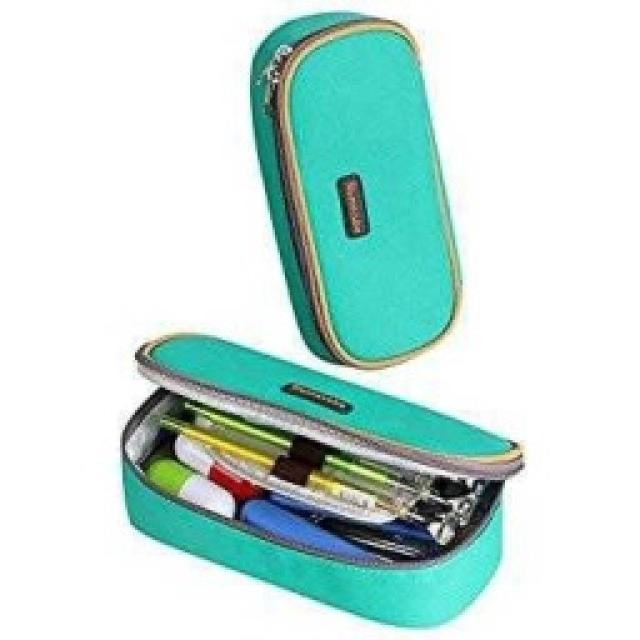pencil: (245, 8, 465, 370)
